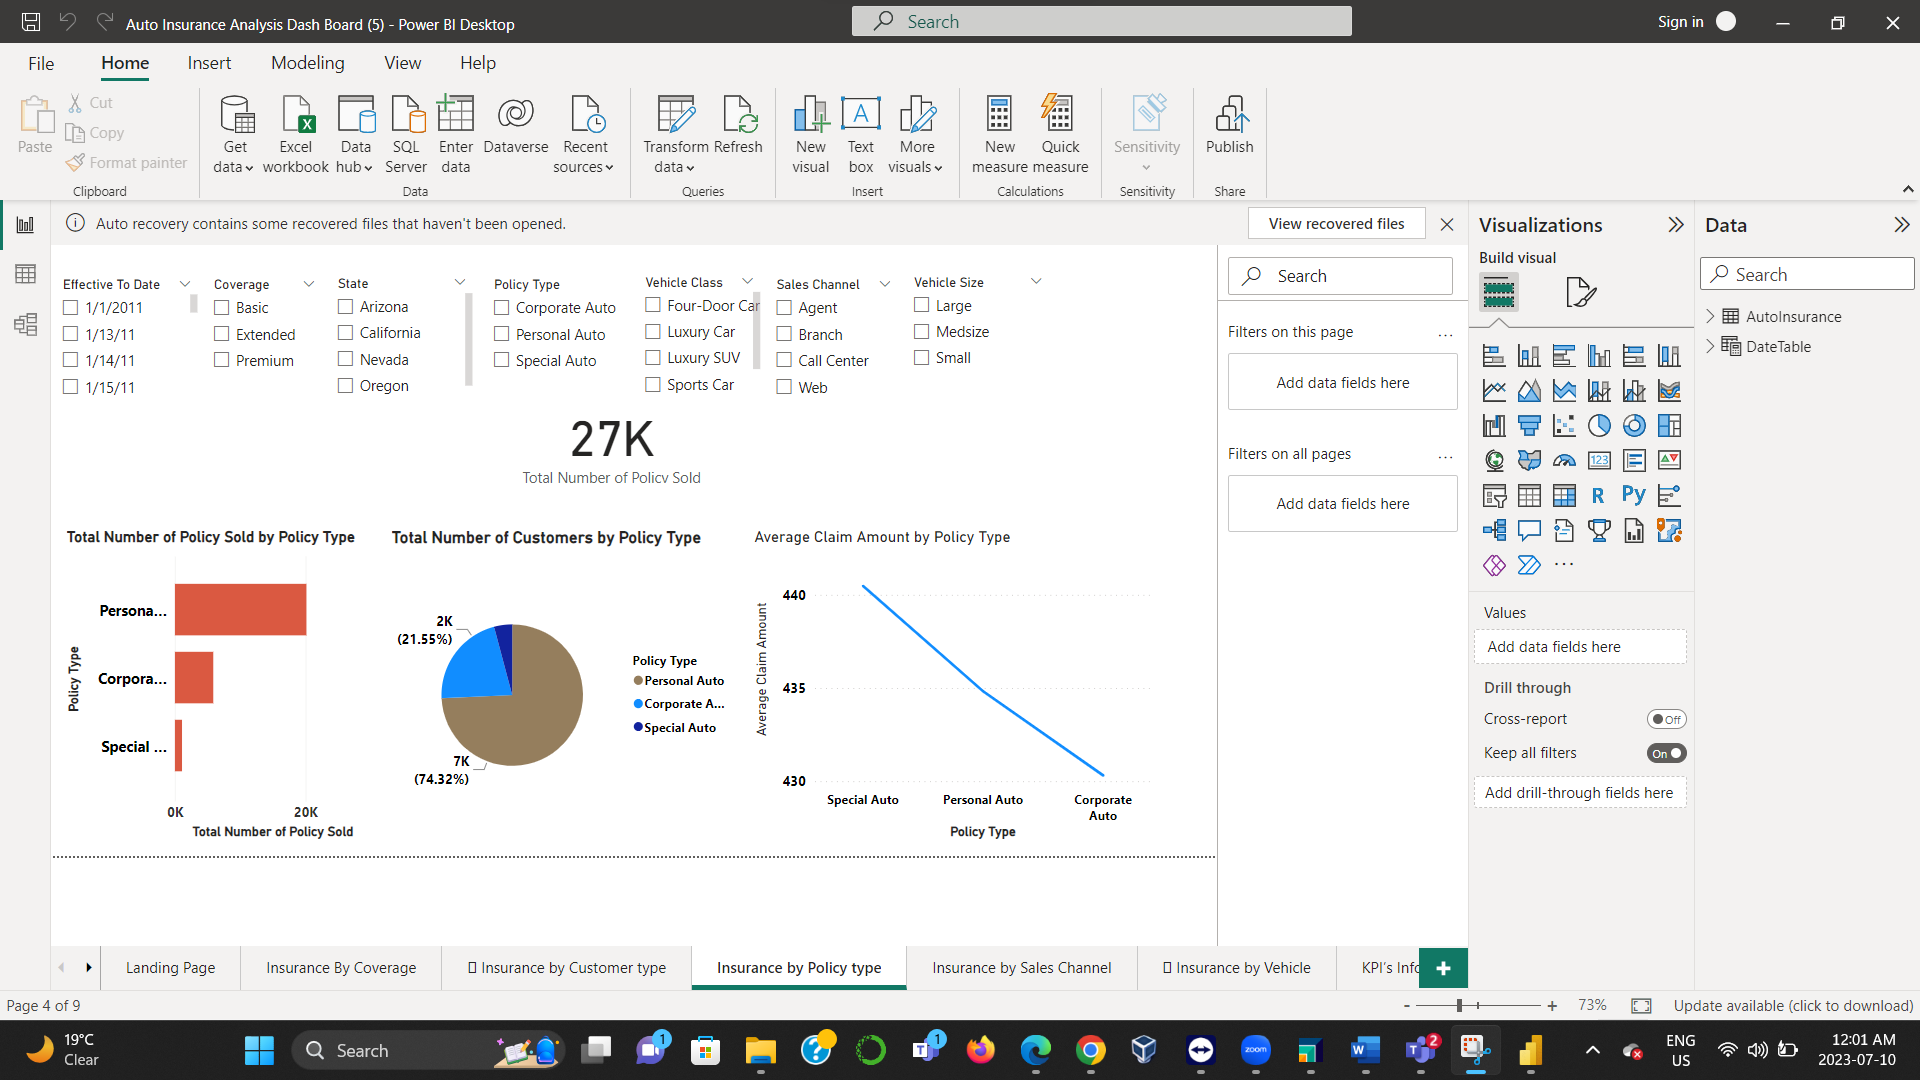

The dashboard page shown, as its layout file describes it:
{"tool":"powerbi","page":{"name":"Insurance by Policy type","canvas":[1280,720],"ordinal":3},"visuals":[{"type":"slicer","fields":{"Values":["AutoInsurance.Effective To Date"]},"box":[0,79.6,166,148.2],"z":0},{"type":"slicer","fields":{"Values":["AutoInsurance.Coverage"]},"box":[166,79.6,135.8,150.9],"z":1000},{"type":"slicer","fields":{"Values":["AutoInsurance.State"]},"box":[301.9,78.2,166,150.9],"z":2000},{"type":"slicer","fields":{"Values":["AutoInsurance.Policy Type"]},"box":[473.4,79.6,166,150.9],"z":3000},{"type":"slicer","fields":{"Values":["AutoInsurance.Vehicle Class"]},"box":[639.5,76.8,144.1,150.9],"z":4000},{"type":"slicer","fields":{"Values":["AutoInsurance.Sales Channel"]},"box":[783.5,79.6,150.9,148.2],"z":5000},{"type":"slicer","fields":{"Values":["AutoInsurance.Vehicle Size"]},"box":[934.5,76.8,166,150.9],"z":6000},{"type":"textbox","box":[415.8,0,557.1,63.1],"z":7000},{"type":"barChart","fields":{"Category":["AutoInsurance.Policy Type"],"Y":["AutoInsurance.Total Number of Policy Sold"]},"box":[11.8,359.5,357.8,347.7],"z":8000},{"type":"card","fields":{"Values":["AutoInsurance.Total Number of Policy Sold"]},"box":[492.6,215.4,245.6,100.2],"z":9000},{"type":"pieChart","fields":{"Category":["AutoInsurance.Policy Type"],"Y":["AutoInsurance.Total Number of Customers"]},"box":[369.1,359.5,388.3,347.2],"z":10000},{"type":"lineChart","fields":{"Y":["AutoInsurance.Average Claim Amount"],"Category":["AutoInsurance.Policy Type"]},"box":[767.1,359.5,454.2,347.2],"z":11000}]}

Visuals, with their boxes on the page's 1280x720 design canvas (x1, y1, x2, y2). These are canvas units, not pixel positions in the 1920x1080 screenshot, which may show the page scaled, cropped or inside an application window:
slicer - AutoInsurance.Effective To Date: (x1=0, y1=80, x2=166, y2=228)
slicer - AutoInsurance.Coverage: (x1=166, y1=80, x2=302, y2=230)
slicer - AutoInsurance.State: (x1=302, y1=78, x2=468, y2=229)
slicer - AutoInsurance.Policy Type: (x1=473, y1=80, x2=639, y2=230)
slicer - AutoInsurance.Vehicle Class: (x1=640, y1=77, x2=784, y2=228)
slicer - AutoInsurance.Sales Channel: (x1=784, y1=80, x2=934, y2=228)
slicer - AutoInsurance.Vehicle Size: (x1=934, y1=77, x2=1100, y2=228)
textbox: (x1=416, y1=0, x2=973, y2=63)
barChart - AutoInsurance.Policy Type x AutoInsurance.Total Number of Policy Sold: (x1=12, y1=360, x2=370, y2=707)
card - AutoInsurance.Total Number of Policy Sold: (x1=493, y1=215, x2=738, y2=316)
pieChart - AutoInsurance.Policy Type x AutoInsurance.Total Number of Customers: (x1=369, y1=360, x2=757, y2=707)
lineChart - AutoInsurance.Average Claim Amount x AutoInsurance.Policy Type: (x1=767, y1=360, x2=1221, y2=707)
